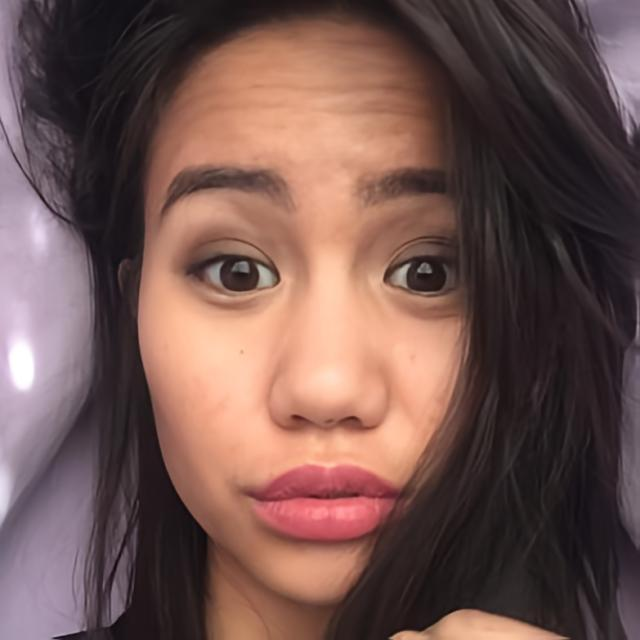surprise: (134, 7, 486, 606)
